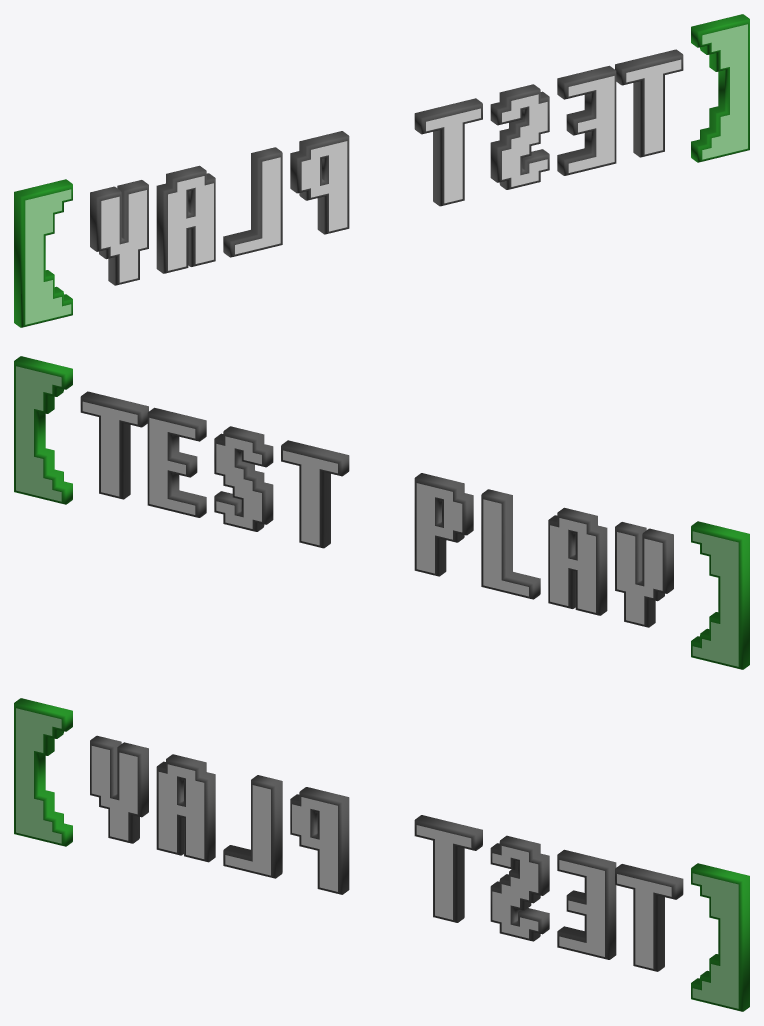
File: TEST PLAY.fbx
3 renders of one model, top to bottom at view 1: azimuth 30°, elevation 25°; view 2: azimuth 150°, elevation 25°; view 3: azimuth 330°, elevation 25°, orthographic.
Visible parts, largest first — view 1: Text, Text.001; view 2: Text, Text.001; view 3: Text, Text.001.
Boxes of the visible parts, x1,y1,x2,y2 form: Text: (25, 24, 747, 324); Text.001: (14, 14, 749, 327); Text: (16, 366, 738, 666); Text.001: (14, 356, 749, 669); Text: (16, 708, 738, 1008); Text.001: (14, 698, 749, 1011).
Bounding box in the file's own units: 12256 × 2106 × 280.
